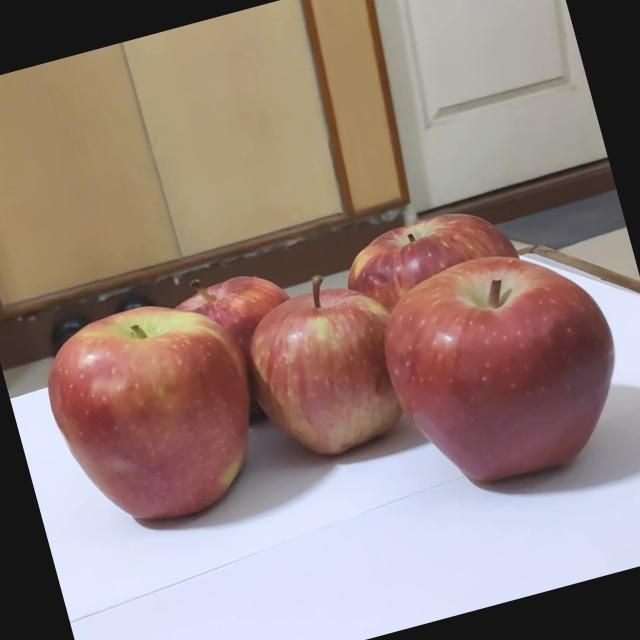apple: (326, 278, 615, 578), (356, 184, 592, 416), (42, 310, 272, 546), (220, 288, 424, 492), (185, 242, 356, 410)
